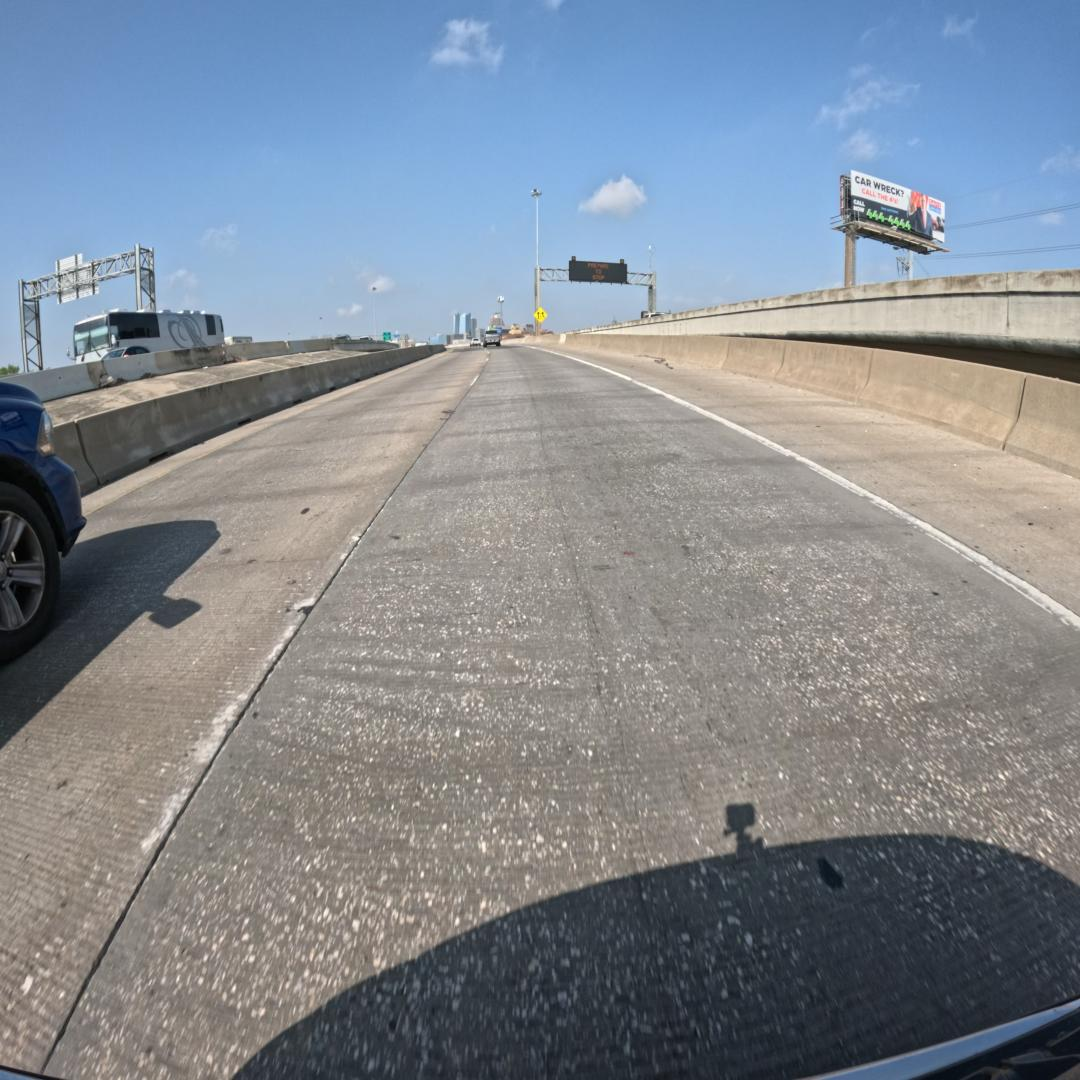lane0: (48, 346, 1080, 1080)
lane1: (0, 351, 487, 1071)
